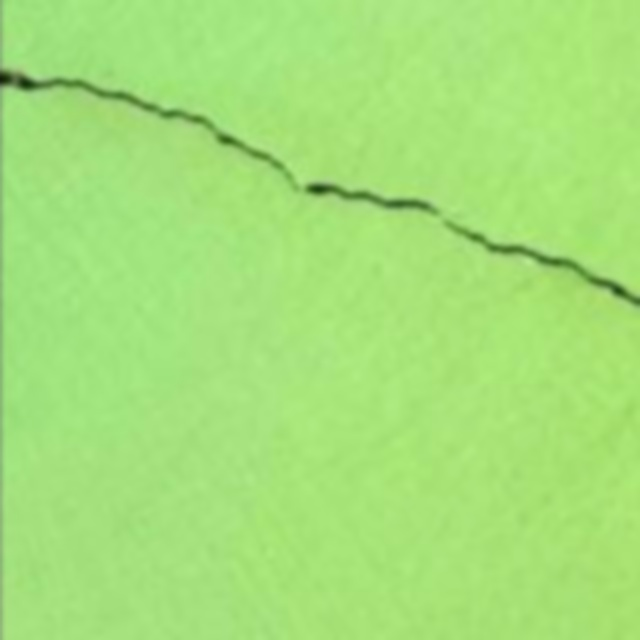SurfaceCrack: (0, 68, 638, 330)
